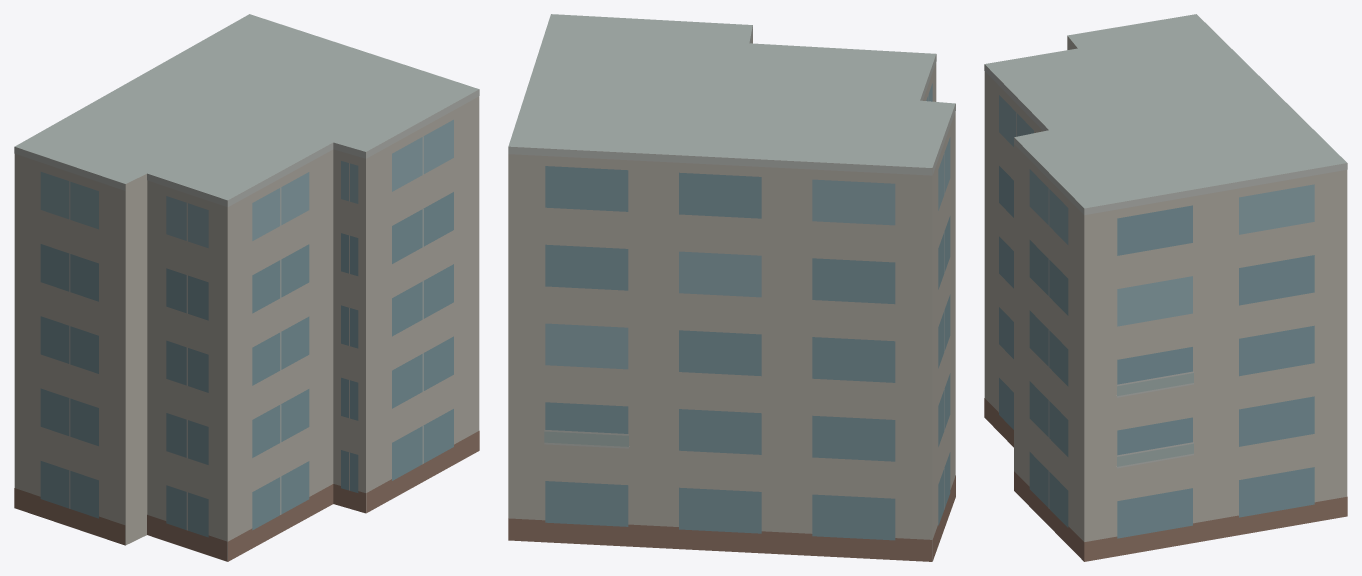
File: survey-upis-32853774.glb
3 renders of one model, left to right at view 1: azimuth 30°, elevation 25°; view 2: azimuth 150°, elevation 25°; view 3: azimuth 270°, elevation 25°, orthographic. The views are drawn at different scales.
Visible parts, largest first — view 1: survey-upis-32853774.tmp; view 2: survey-upis-32853774.tmp; view 3: survey-upis-32853774.tmp.
Part boxes in pixels (x1,y1,x2,y2): survey-upis-32853774.tmp: (14, 14, 479, 561); survey-upis-32853774.tmp: (508, 14, 955, 561); survey-upis-32853774.tmp: (984, 14, 1347, 561).
Size of the model in its own units: 15.14 by 12.82 by 11.94.
